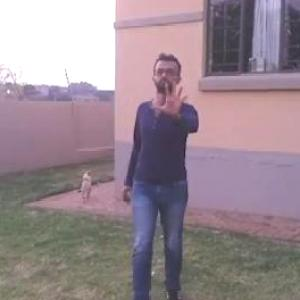follow_hand: (151, 76, 196, 125)
